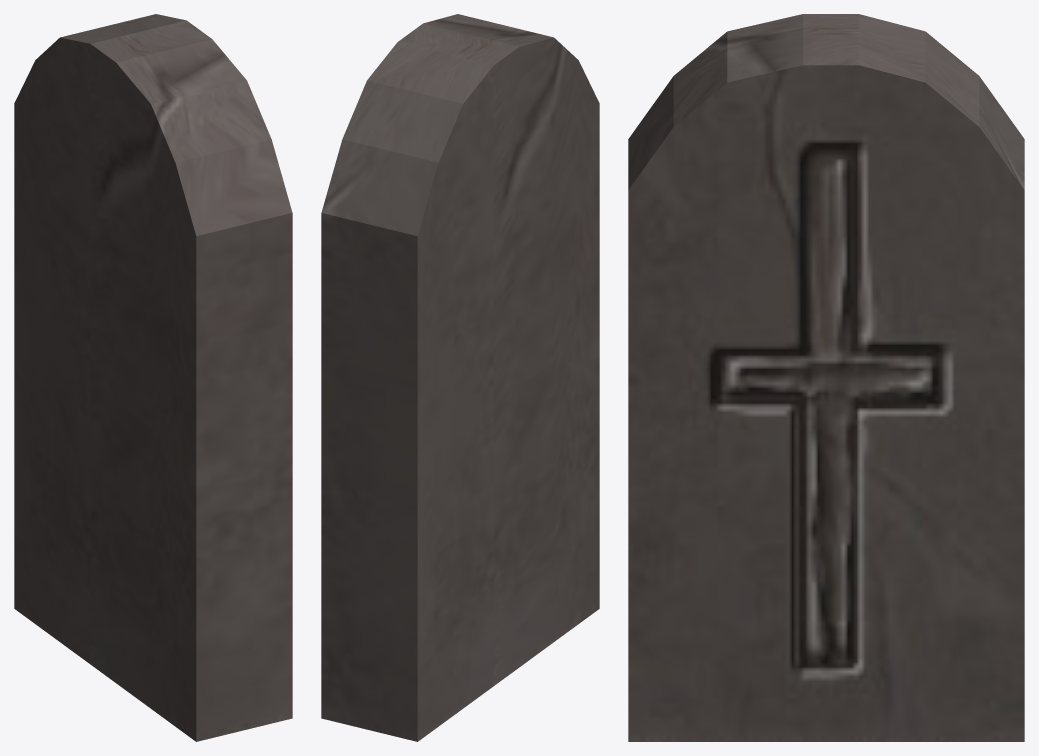
The model's file is peasant_tombstone_1_.fbx.
The picture shows the model from 3 angles, left to right: view 1: azimuth 30°, elevation 25°; view 2: azimuth 150°, elevation 25°; view 3: azimuth 270°, elevation 25°; orthographic projection. The views are drawn at different scales.
Visible parts, largest first — view 1: Peasant_Tombstone_1; view 2: Peasant_Tombstone_1; view 3: Peasant_Tombstone_1.
Boxes of the visible parts, <box> form: Peasant_Tombstone_1: <box>14,14,292,741</box>; Peasant_Tombstone_1: <box>321,14,599,741</box>; Peasant_Tombstone_1: <box>628,14,1024,741</box>.
Size of the model in its own units: 0.8995 by 5.54 by 2.94.
